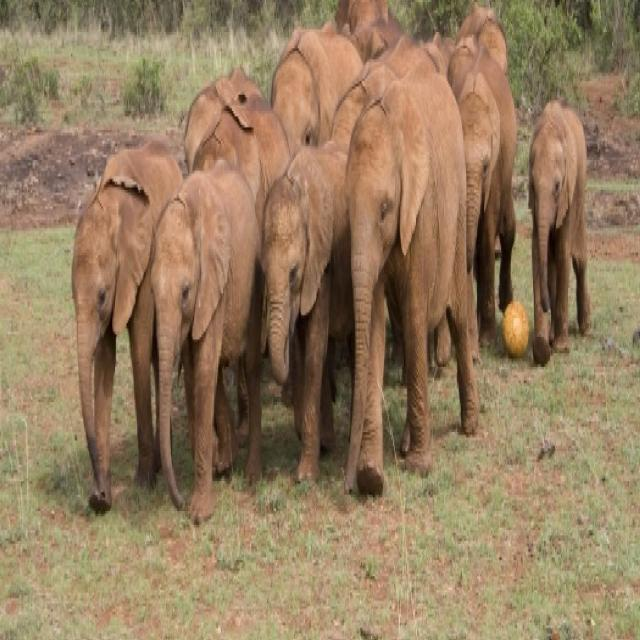Elephant: (345, 70, 490, 500), (64, 120, 184, 540), (147, 155, 266, 532), (256, 141, 345, 488), (441, 28, 519, 350), (520, 78, 598, 367), (268, 30, 364, 161)
